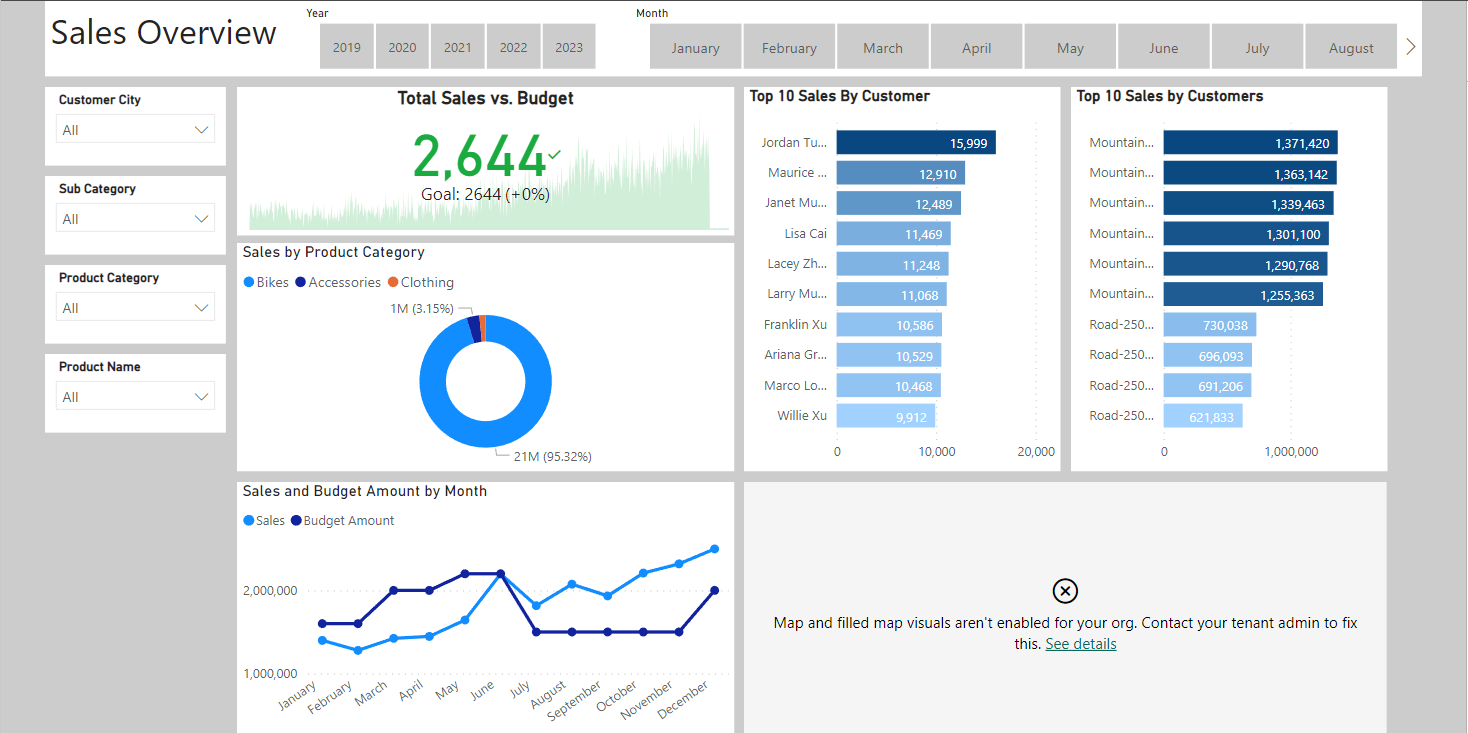

The page's visual inventory and layout, read from the dashboard file:
{"tool":"powerbi","page":{"name":"Sales Overview","canvas":[1280,720],"ordinal":0},"visuals":[{"type":"textbox","box":[0,0,1280,70],"z":0},{"type":"slicer","fields":{"Values":["DIM_Customer.Customer City"]},"box":[0,79.8,168.3,72.9],"z":1000},{"type":"slicer","fields":{"Values":["DIM_Product.Sub Category"]},"box":[0,162.4,168.3,72.9],"z":2000},{"type":"slicer","fields":{"Values":["DIM_Product.Product Category"]},"box":[0,245.1,168.3,72.9],"z":3000},{"type":"slicer","fields":{"Values":["DIM_Product.Product Name"]},"box":[0,327.8,168.3,72.9],"z":4000},{"type":"slicer","fields":{"Values":["DIM_Calendar.Year"]},"box":[229.5,0,306.4,70],"z":5000},{"type":"slicer","fields":{"Values":["DIM_Calendar.Month"]},"box":[535.9,0,744.1,70],"z":6000},{"type":"kpi","title":"Total Sales vs. Budget","fields":{"TrendLine":["DIM_Calendar.Date"],"Goal":["Key Measures.Sales - Budget"],"Indicator":["Key Measures.Sales"]},"box":[178,79.8,462,138.1],"z":7000},{"type":"donutChart","fields":{"Category":["DIM_Product.Product Category"],"Y":["Key Measures.Sales"]},"box":[178,224.7,462,212],"z":8000},{"type":"lineChart","fields":{"Y":["Key Measures.Sales","Key Measures.Budget Amount"],"Category":["DIM_Calendar.Date.Variation.Date Hierarchy.Month"]},"box":[178,446.4,462,254.8],"z":9000},{"type":"barChart","title":"Top 10 Sales By Customer","fields":{"Y":["Key Measures.Sales"],"Category":["DIM_Customer.Full Name"]},"box":[649.7,79.8,293.7,357],"z":10000},{"type":"barChart","title":"Top 10 Sales by Customers","fields":{"Y":["Key Measures.Sales"],"Category":["DIM_Product.Product Name"]},"box":[953.2,79.8,293.7,357],"z":11000},{"type":"map","fields":{"Size":["Key Measures.Sales"],"Category":["DIM_Customer.Customer City"]},"box":[649.7,446.4,597.2,254.8],"z":12000}]}

Visuals, with their boxes on the page's 1280x720 design canvas (x1, y1, x2, y2). These are canvas units, not pixel positions in the 1468x733 screenshot, which may show the page scaled, cropped or inside an application window:
textbox: {"x1": 0, "y1": 0, "x2": 1280, "y2": 70}
slicer - DIM_Customer.Customer City: {"x1": 0, "y1": 80, "x2": 168, "y2": 153}
slicer - DIM_Product.Sub Category: {"x1": 0, "y1": 162, "x2": 168, "y2": 235}
slicer - DIM_Product.Product Category: {"x1": 0, "y1": 245, "x2": 168, "y2": 318}
slicer - DIM_Product.Product Name: {"x1": 0, "y1": 328, "x2": 168, "y2": 401}
slicer - DIM_Calendar.Year: {"x1": 230, "y1": 0, "x2": 536, "y2": 70}
slicer - DIM_Calendar.Month: {"x1": 536, "y1": 0, "x2": 1280, "y2": 70}
"Total Sales vs. Budget" kpi: {"x1": 178, "y1": 80, "x2": 640, "y2": 218}
donutChart - DIM_Product.Product Category x Key Measures.Sales: {"x1": 178, "y1": 225, "x2": 640, "y2": 437}
lineChart - Key Measures.Sales x Key Measures.Budget Amount: {"x1": 178, "y1": 446, "x2": 640, "y2": 701}
"Top 10 Sales By Customer" barChart: {"x1": 650, "y1": 80, "x2": 943, "y2": 437}
"Top 10 Sales by Customers" barChart: {"x1": 953, "y1": 80, "x2": 1247, "y2": 437}
map - Key Measures.Sales x DIM_Customer.Customer City: {"x1": 650, "y1": 446, "x2": 1247, "y2": 701}
